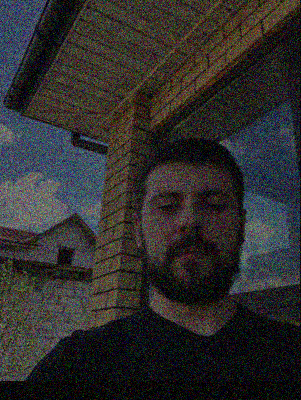without_mask: (144, 181, 239, 305)
